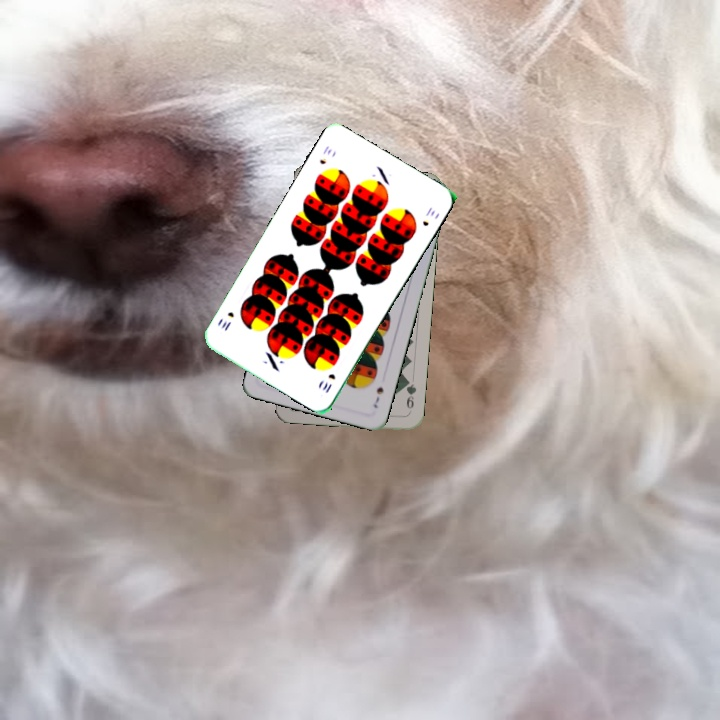G9: (402, 375, 419, 416)
S10: (318, 369, 338, 396), (315, 142, 335, 167)
S7: (369, 383, 386, 411)
